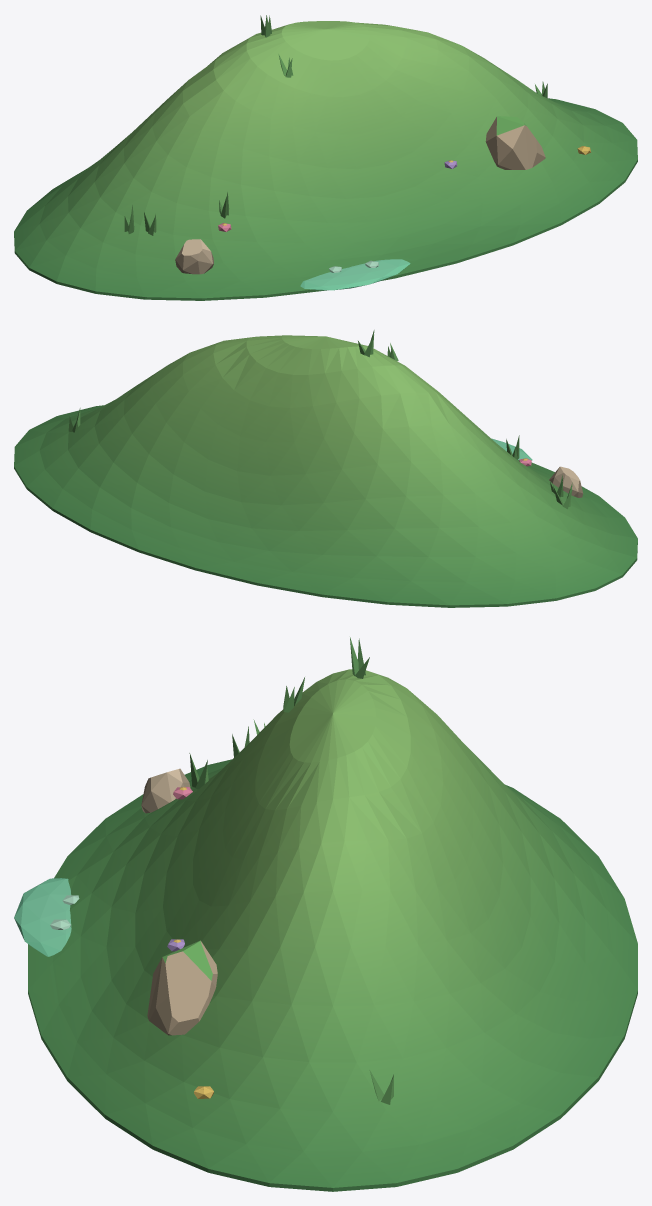
The model's file is ranch_border_hill.fbx.
3 views of the same model, one above another, from view 1: azimuth 30°, elevation 25°; view 2: azimuth 150°, elevation 25°; view 3: azimuth 270°, elevation 25° (orthographic). The views are drawn at different scales.
Parts seen in each view (by area): view 1: ranch_border_hill; view 2: ranch_border_hill; view 3: ranch_border_hill.
Boxes of the visible parts, <box> form: ranch_border_hill: <box>14,15,637,300</box>; ranch_border_hill: <box>14,330,637,607</box>; ranch_border_hill: <box>14,637,637,1191</box>.
Bounding box in the file's own units: 29 × 9.01 × 17.3.
